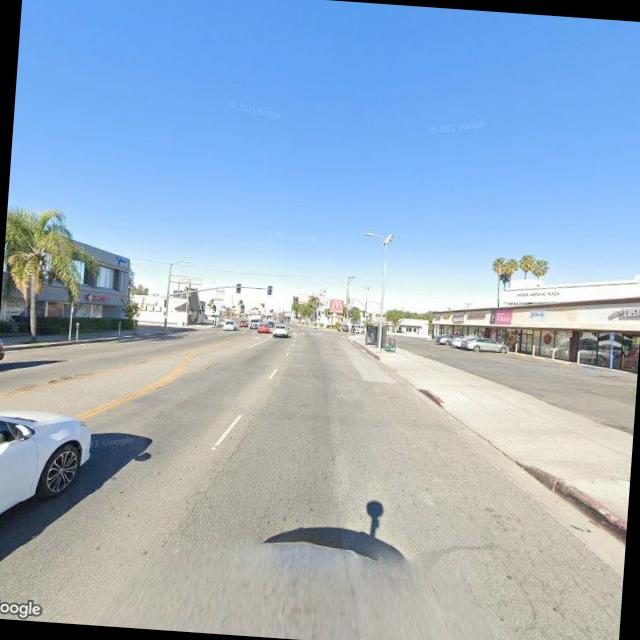crack: (170, 418, 248, 543)
